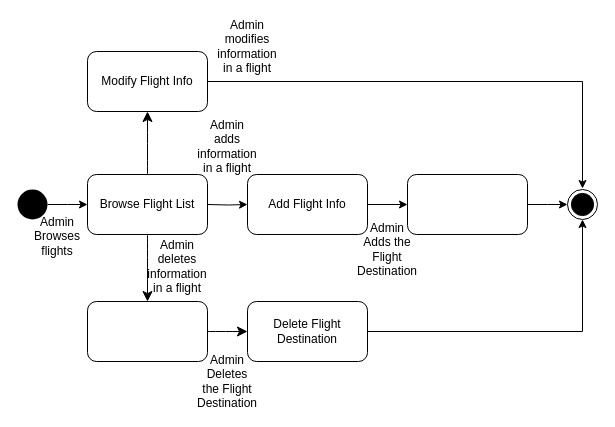
This 615x427 diagram has some shape labels left out. Each missing label, with the centre of its shape:
"Add Flight Destination" goes at (467,204).
"Delete Flight Info" goes at (147,331).
